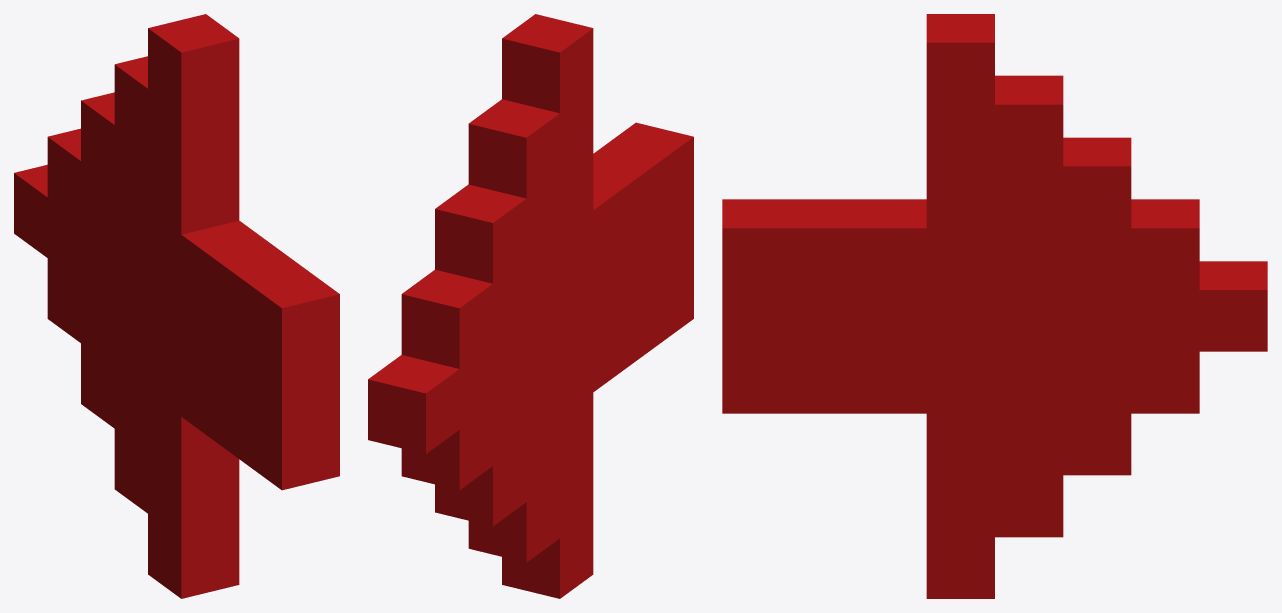
The model's file is IconArrowRed.obj.
3 views of the same model, side by side, from view 1: azimuth 30°, elevation 25°; view 2: azimuth 150°, elevation 25°; view 3: azimuth 270°, elevation 25° (orthographic).
Size of the model in its own units: 0.1 by 0.9 by 0.8.
1 material, 1 textured.
